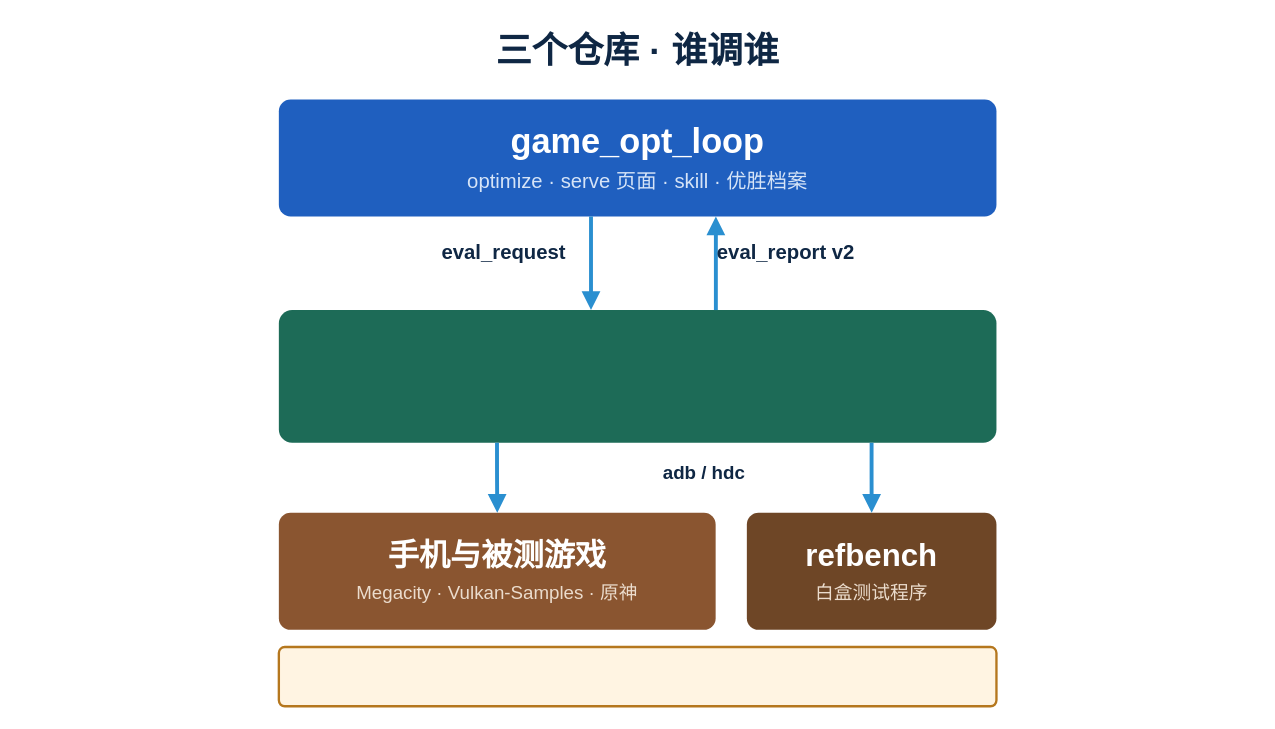
Some shapes in this 1275 by 729 pixel diagram are drawn without their labels. The shapes that lost their labels are listed below. From the top down, each one's centre as x and y in pixels, then its label:
[637,376]: phonefarm 设备 adb / hdc · knobs 应用改动 · 测量 perf 判定 · 还原 · devlock 设备锁
[637,676]: 上下传的都是 JSON kind = shader / sysparam / gray
